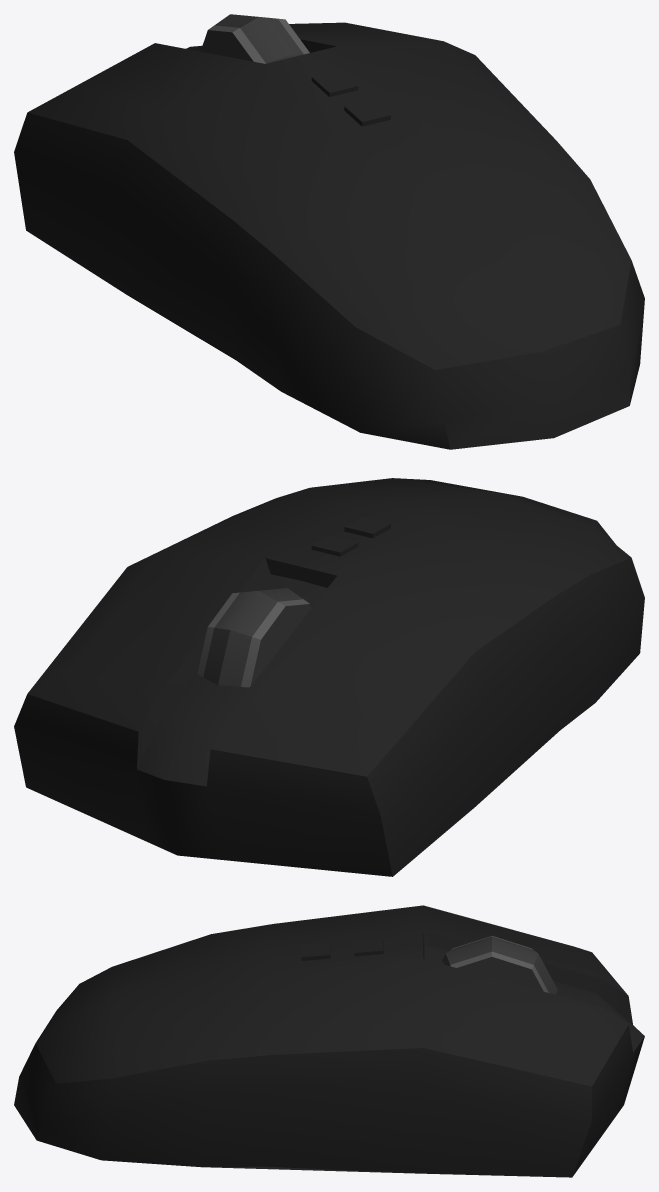
Rendered from mouse_1.glb.
3 views of the same model, one above another, from view 1: azimuth 30°, elevation 25°; view 2: azimuth 150°, elevation 25°; view 3: azimuth 270°, elevation 25° (orthographic). The views are drawn at different scales.
Parts seen in each view (by area): view 1: PC Mouse 1; view 2: PC Mouse 1; view 3: PC Mouse 1.
Boxes of the visible parts, x1,y1,x2,y2 form: PC Mouse 1: (14, 14, 644, 449); PC Mouse 1: (14, 478, 644, 876); PC Mouse 1: (14, 905, 644, 1177).
Bounding box in the file's own units: 0.0936 × 0.0498 × 0.1715.
Materials: 1 (1 with a texture image).
